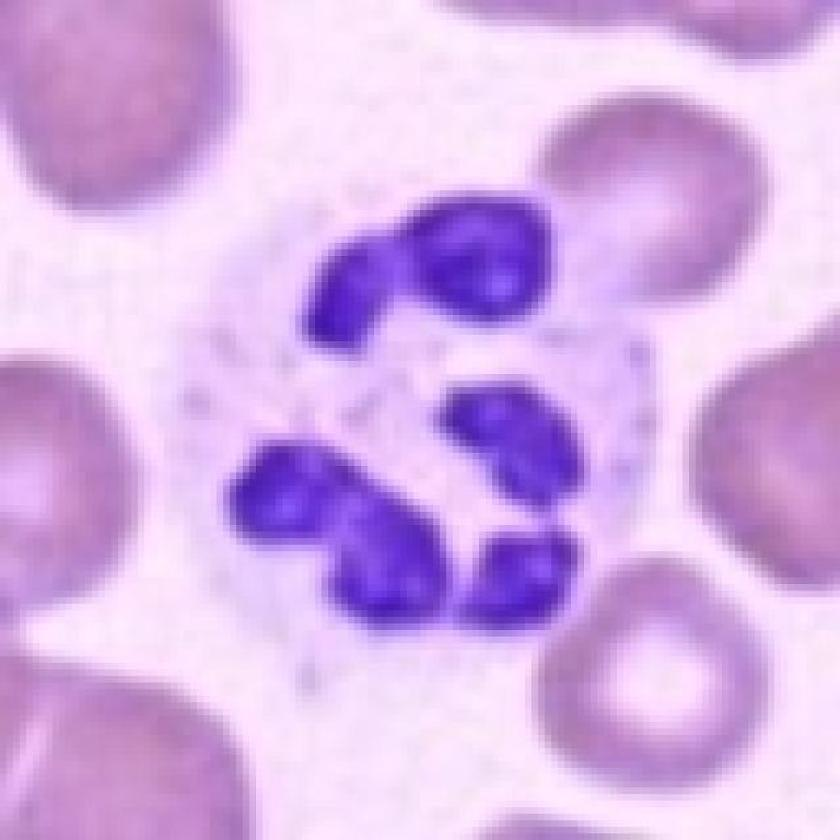neutrophil: (177, 147, 706, 716)
